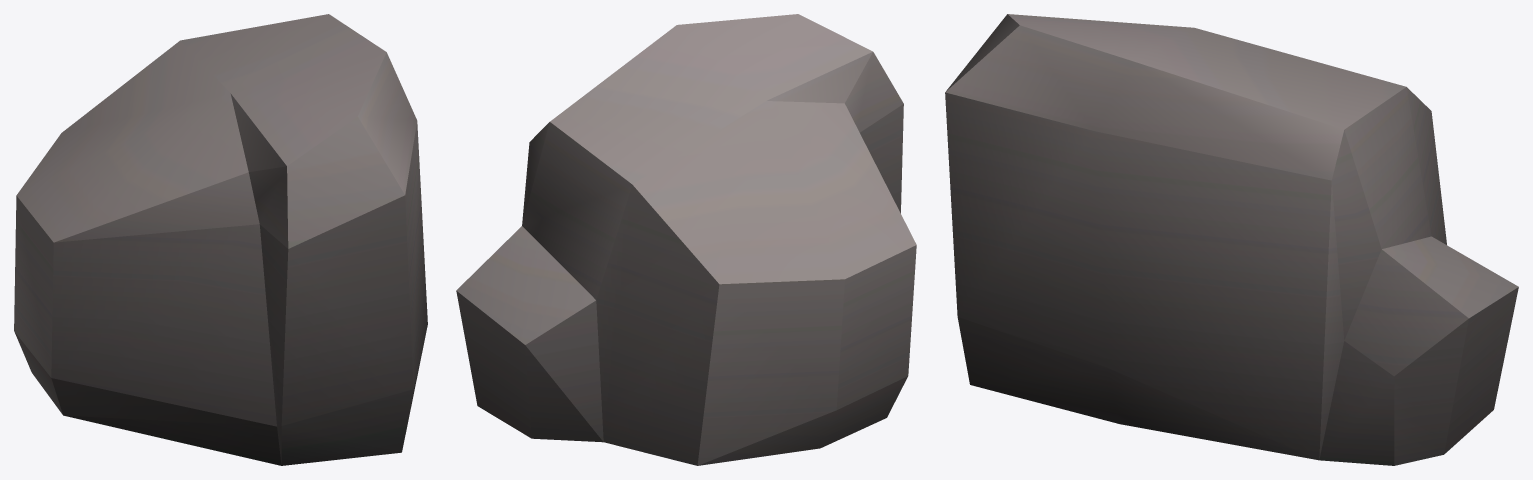
Rendered from rock_2.glb.
3 renders of one model, left to right at view 1: azimuth 30°, elevation 25°; view 2: azimuth 150°, elevation 25°; view 3: azimuth 270°, elevation 25°, orthographic. The views are drawn at different scales.
Visible parts, largest first — view 1: rock_2; view 2: rock_2; view 3: rock_2.
Boxes of the visible parts, bbox=[...] form: rock_2: bbox=[14, 14, 427, 465]; rock_2: bbox=[456, 14, 916, 465]; rock_2: bbox=[945, 14, 1518, 465].
Bounding box in the file's own units: 0.9123 × 0.733 × 1.07.
1 material, 1 textured.
